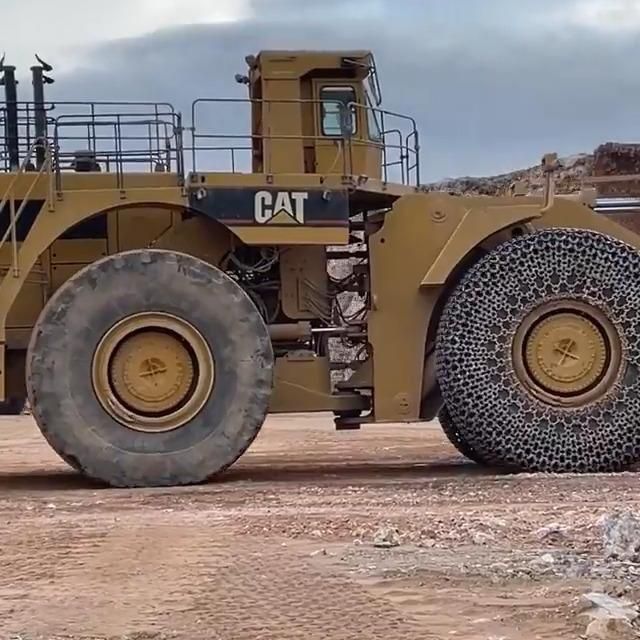wheel loader: (0, 39, 640, 483)
